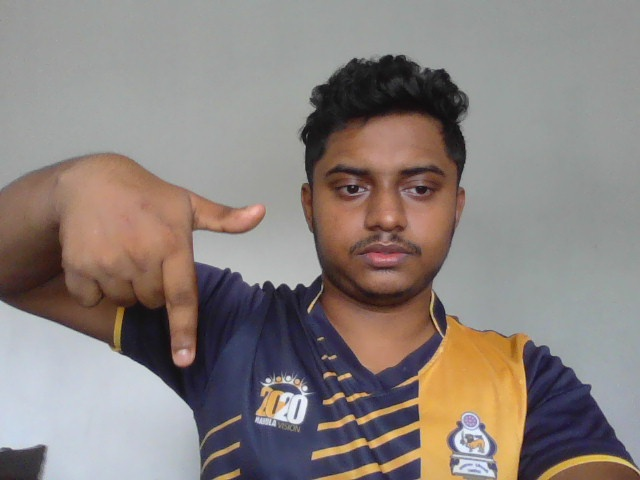Later: (52, 157, 268, 368)
